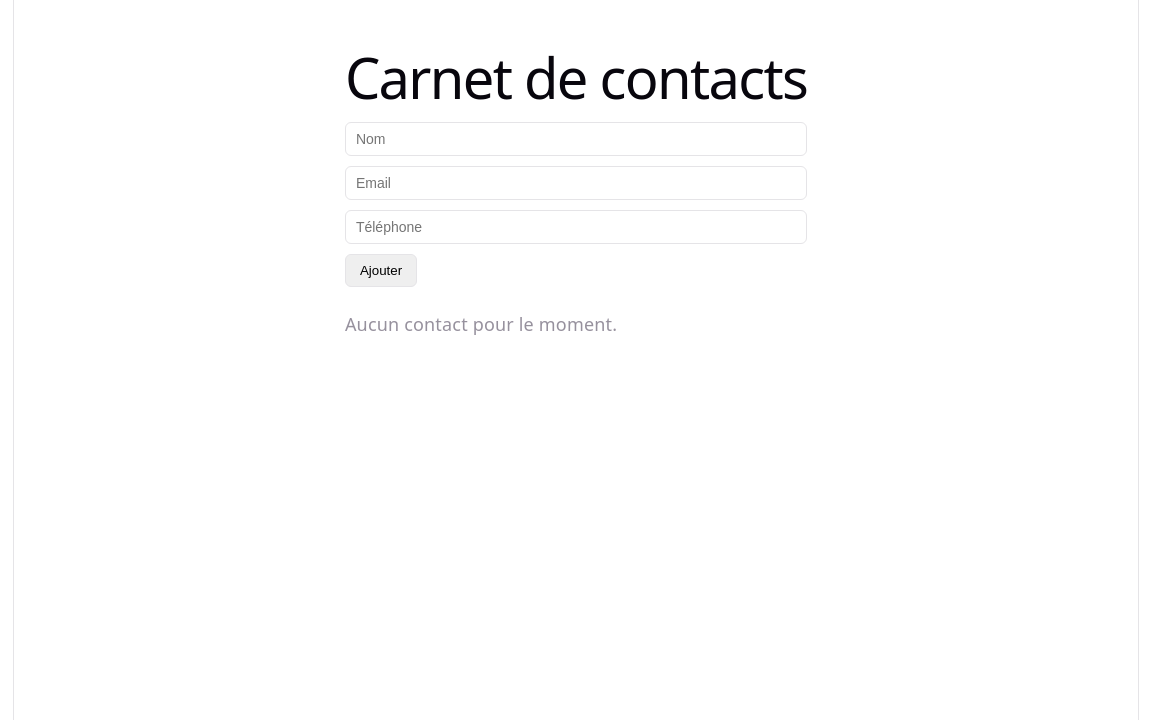
Carnet de contacts › ajoute un contact via le formulaire
In the field with placeholder "Nom": (576, 139) [345, 122, 807, 156], type "Ada Lovelace"
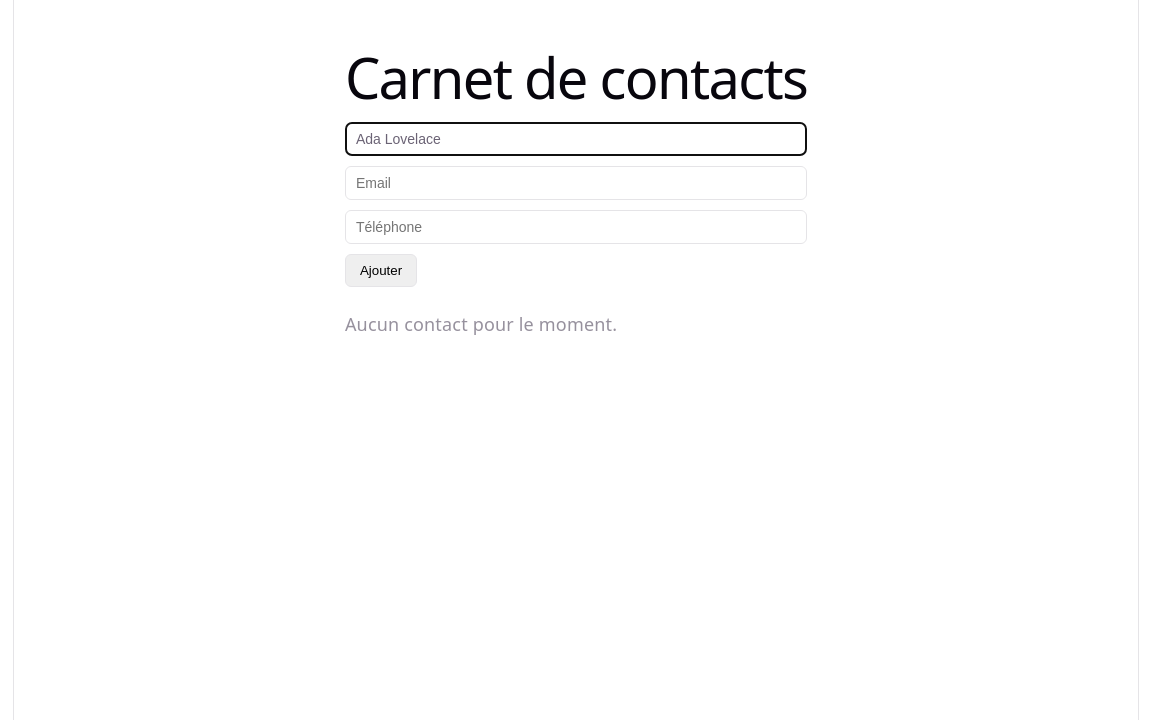
In the field with placeholder "Email": (576, 183) [345, 166, 807, 200], type "ada@example.com"
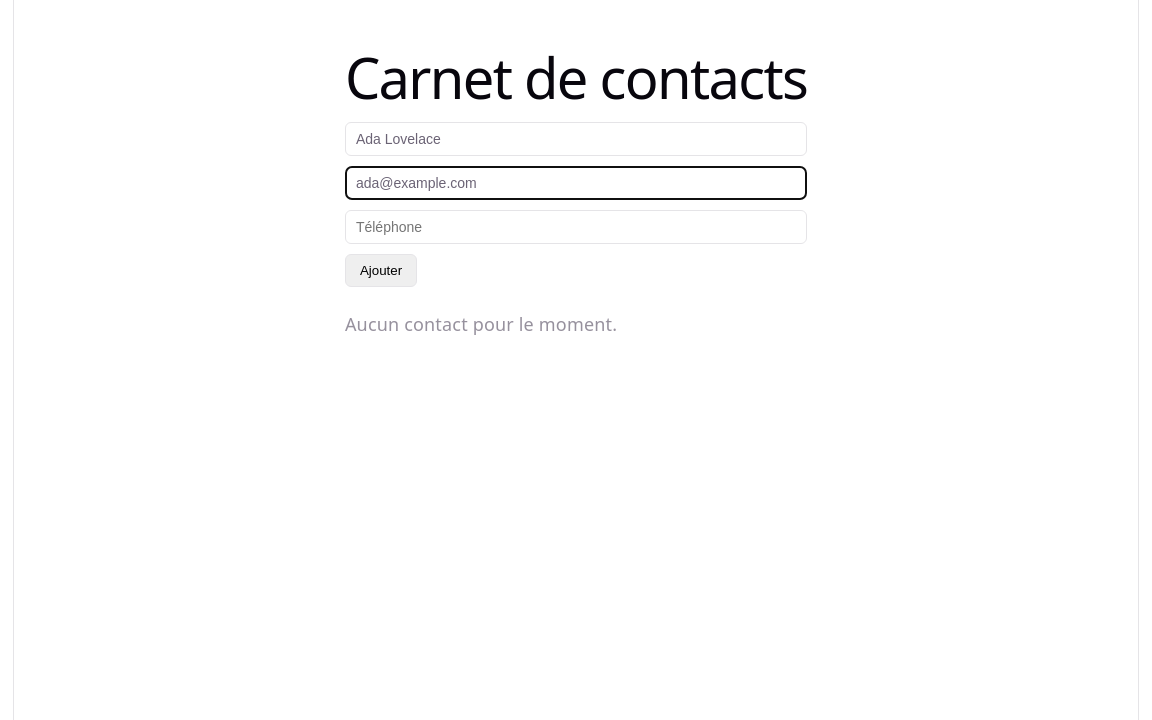
In the field with placeholder "Téléphone": (576, 227) [345, 210, 807, 244], type "0600000000"
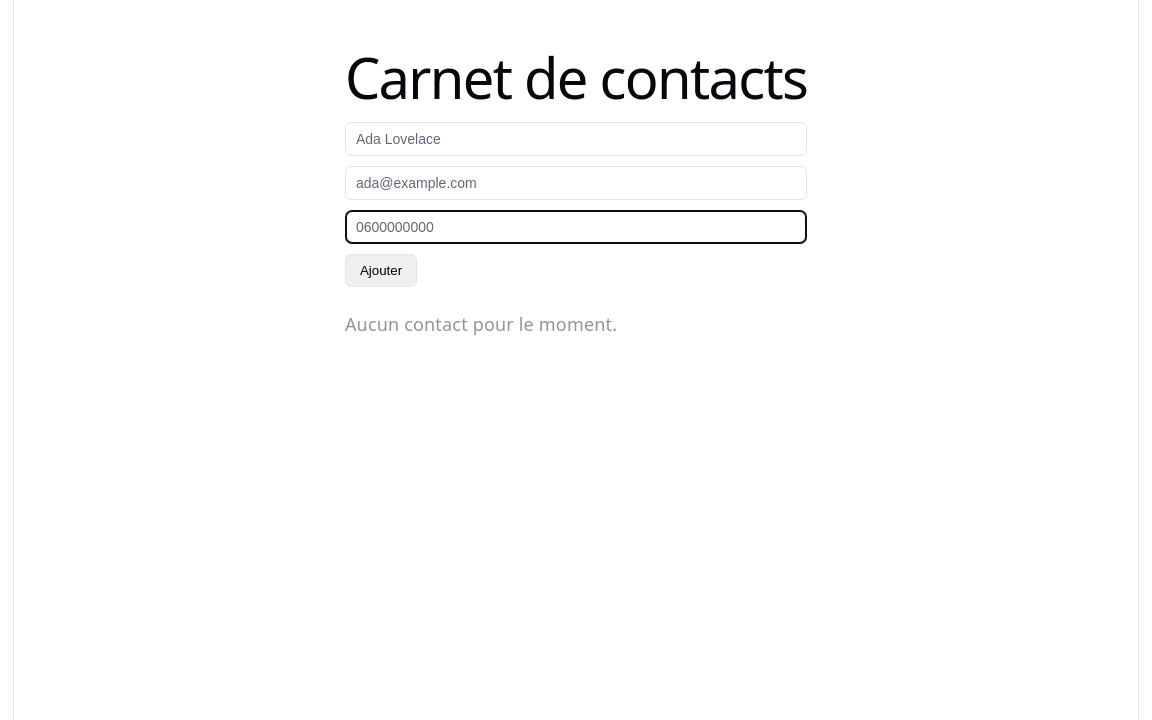
Click the button "Ajouter": (381, 271) [345, 254, 417, 287]
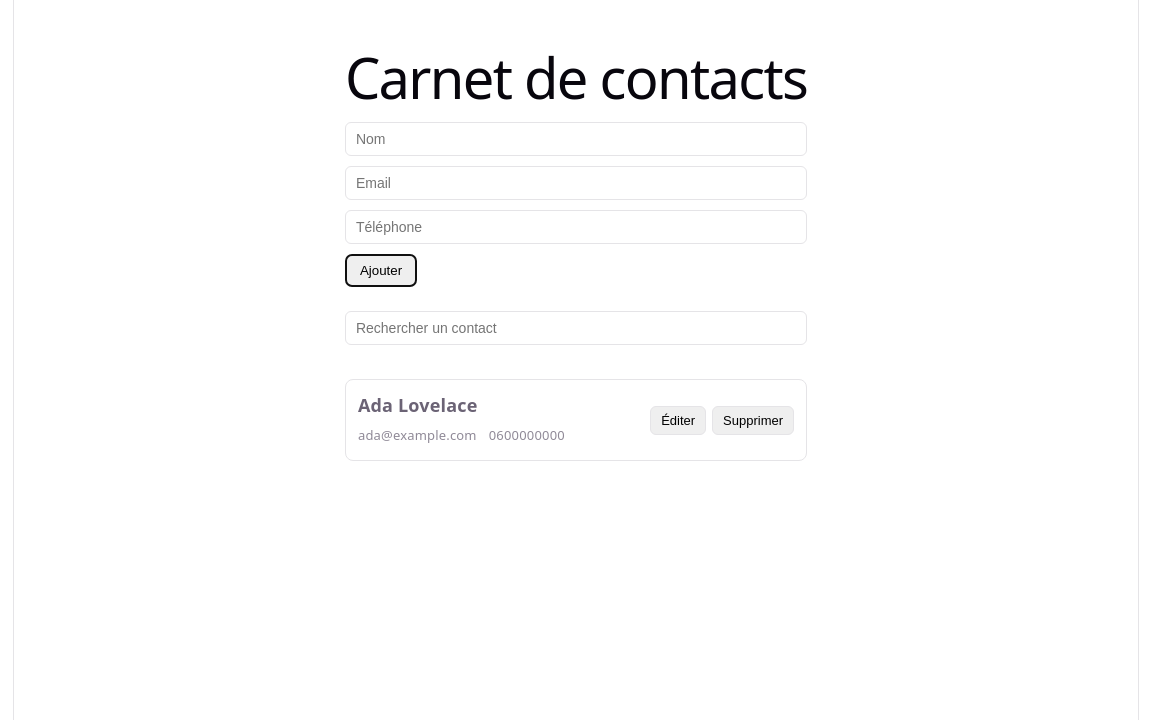
Now the text "Ada Lovelace" is shown, box [358, 393, 478, 417]
Now the text "ada@example.com" is shown, box [358, 422, 477, 448]
Now the text "Aucun contact" is gone
